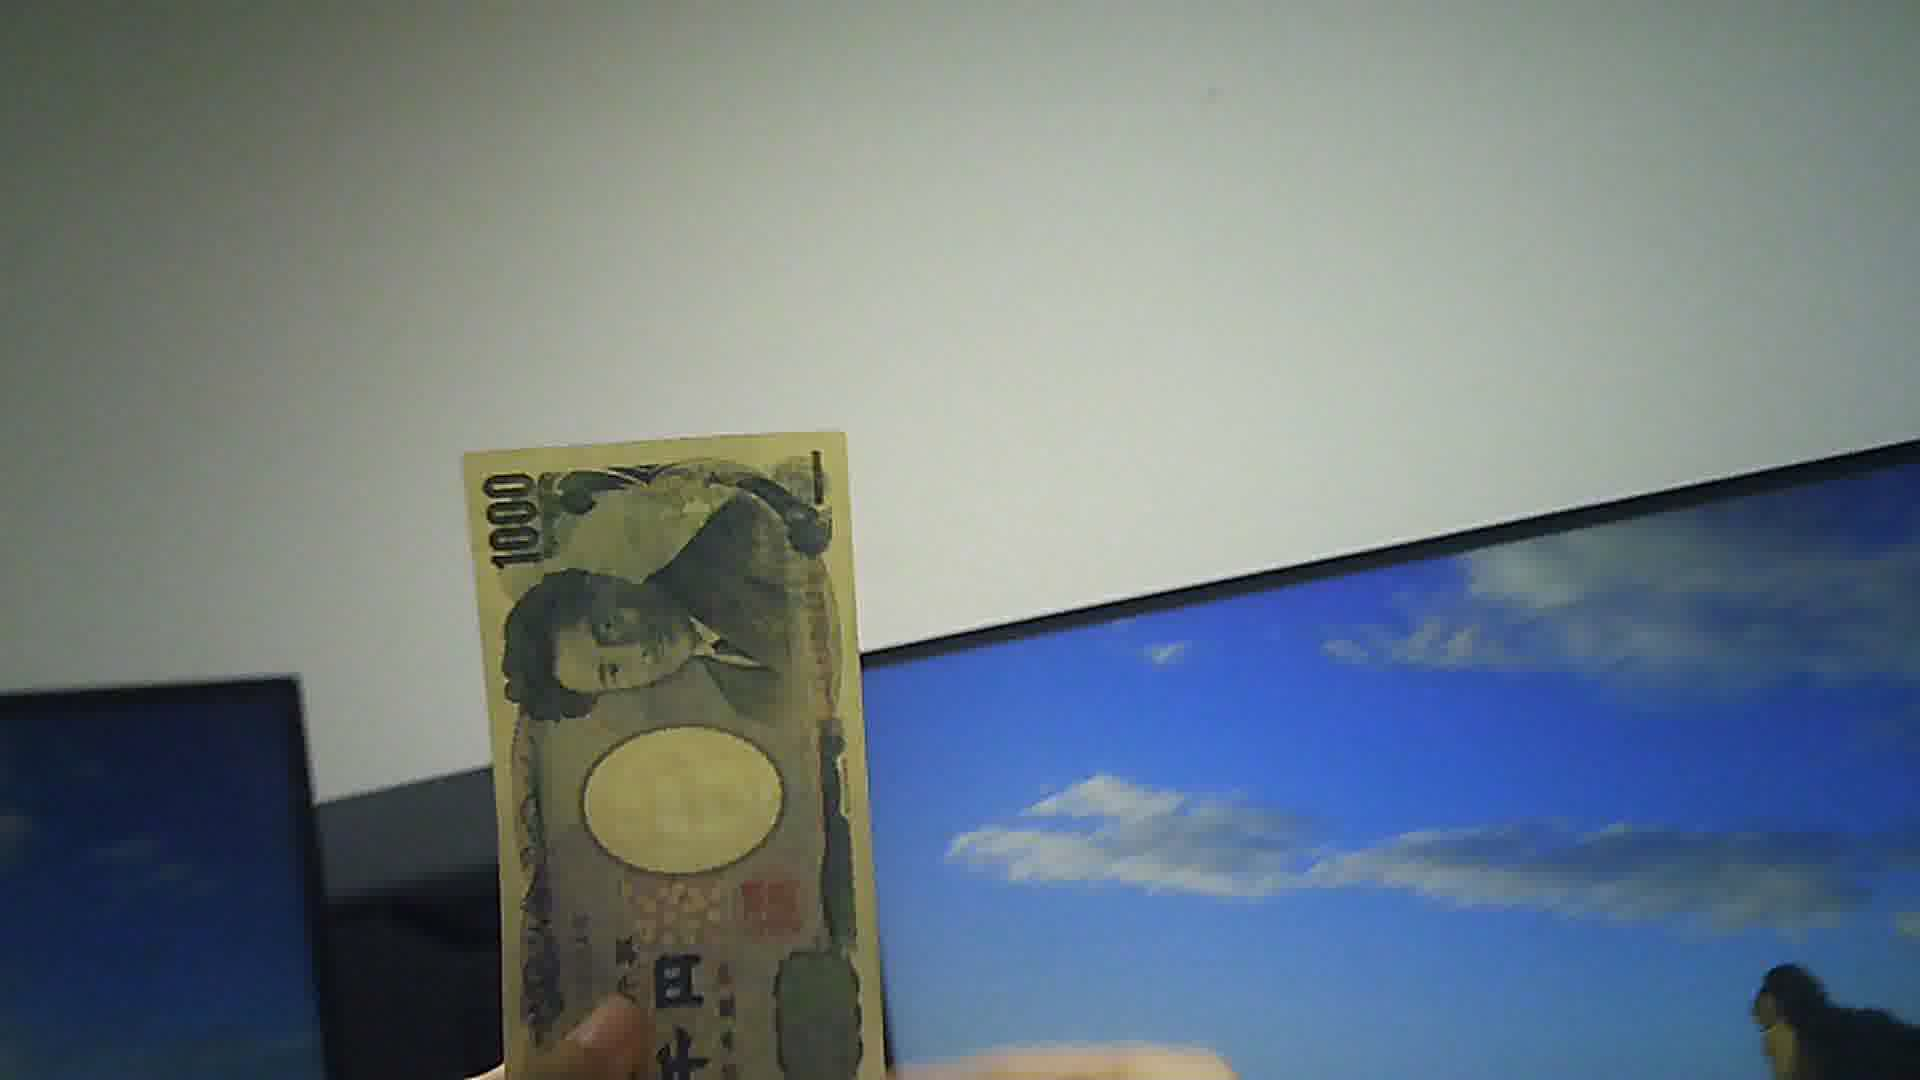1,000 Yen: (427, 415, 905, 1072)
